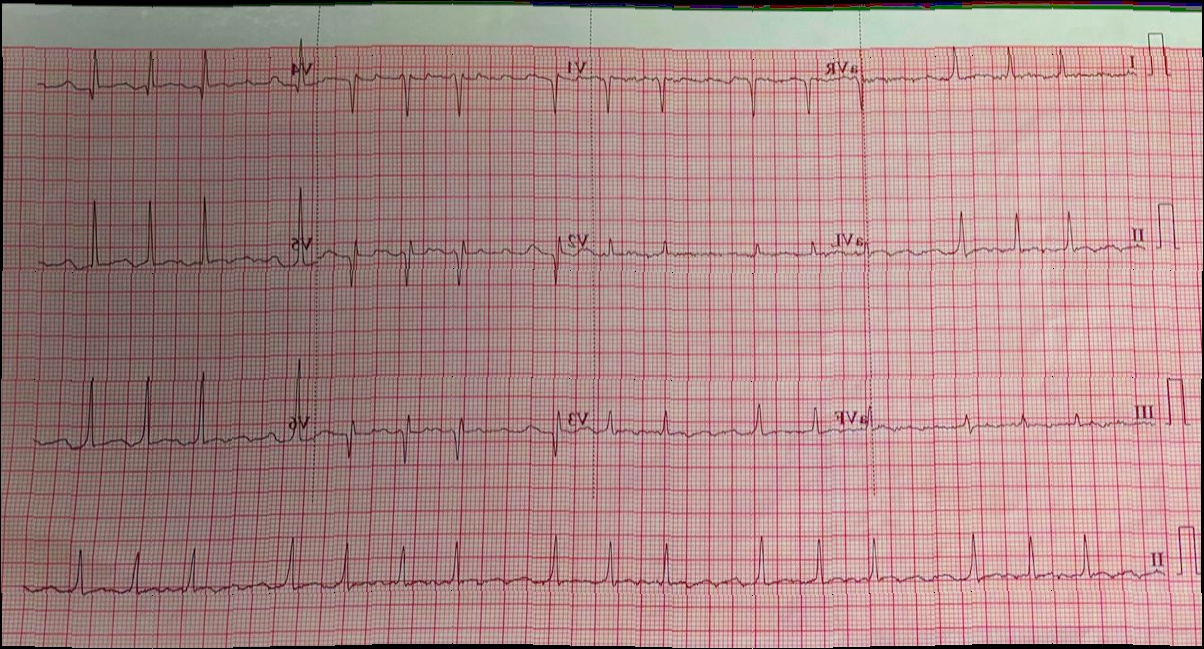Lead_I: (861, 22, 1146, 119)
Lead_II: (868, 180, 1151, 281)
Lead_III: (870, 372, 1165, 462)
Lead_II_ext: (14, 501, 1171, 628)
Lead_V1: (320, 30, 588, 129)
Lead_V2: (325, 191, 593, 301)
Lead_V3: (317, 384, 592, 482)
Lead_V4: (26, 6, 320, 119)
Lead_V5: (28, 158, 325, 306)
Lead_V6: (27, 338, 320, 484)
Lead_aVF: (592, 356, 885, 479)
Lead_aVL: (590, 187, 870, 286)
Lead_aVR: (587, 19, 866, 128)
